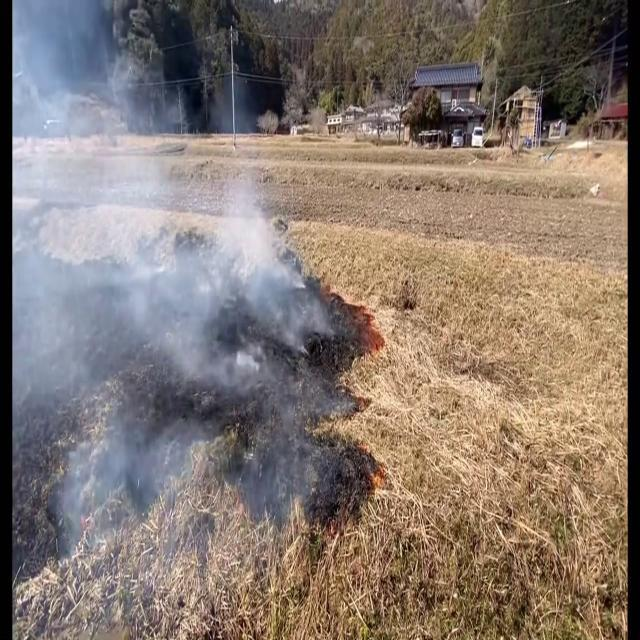Smoke: (16, 21, 332, 560)
